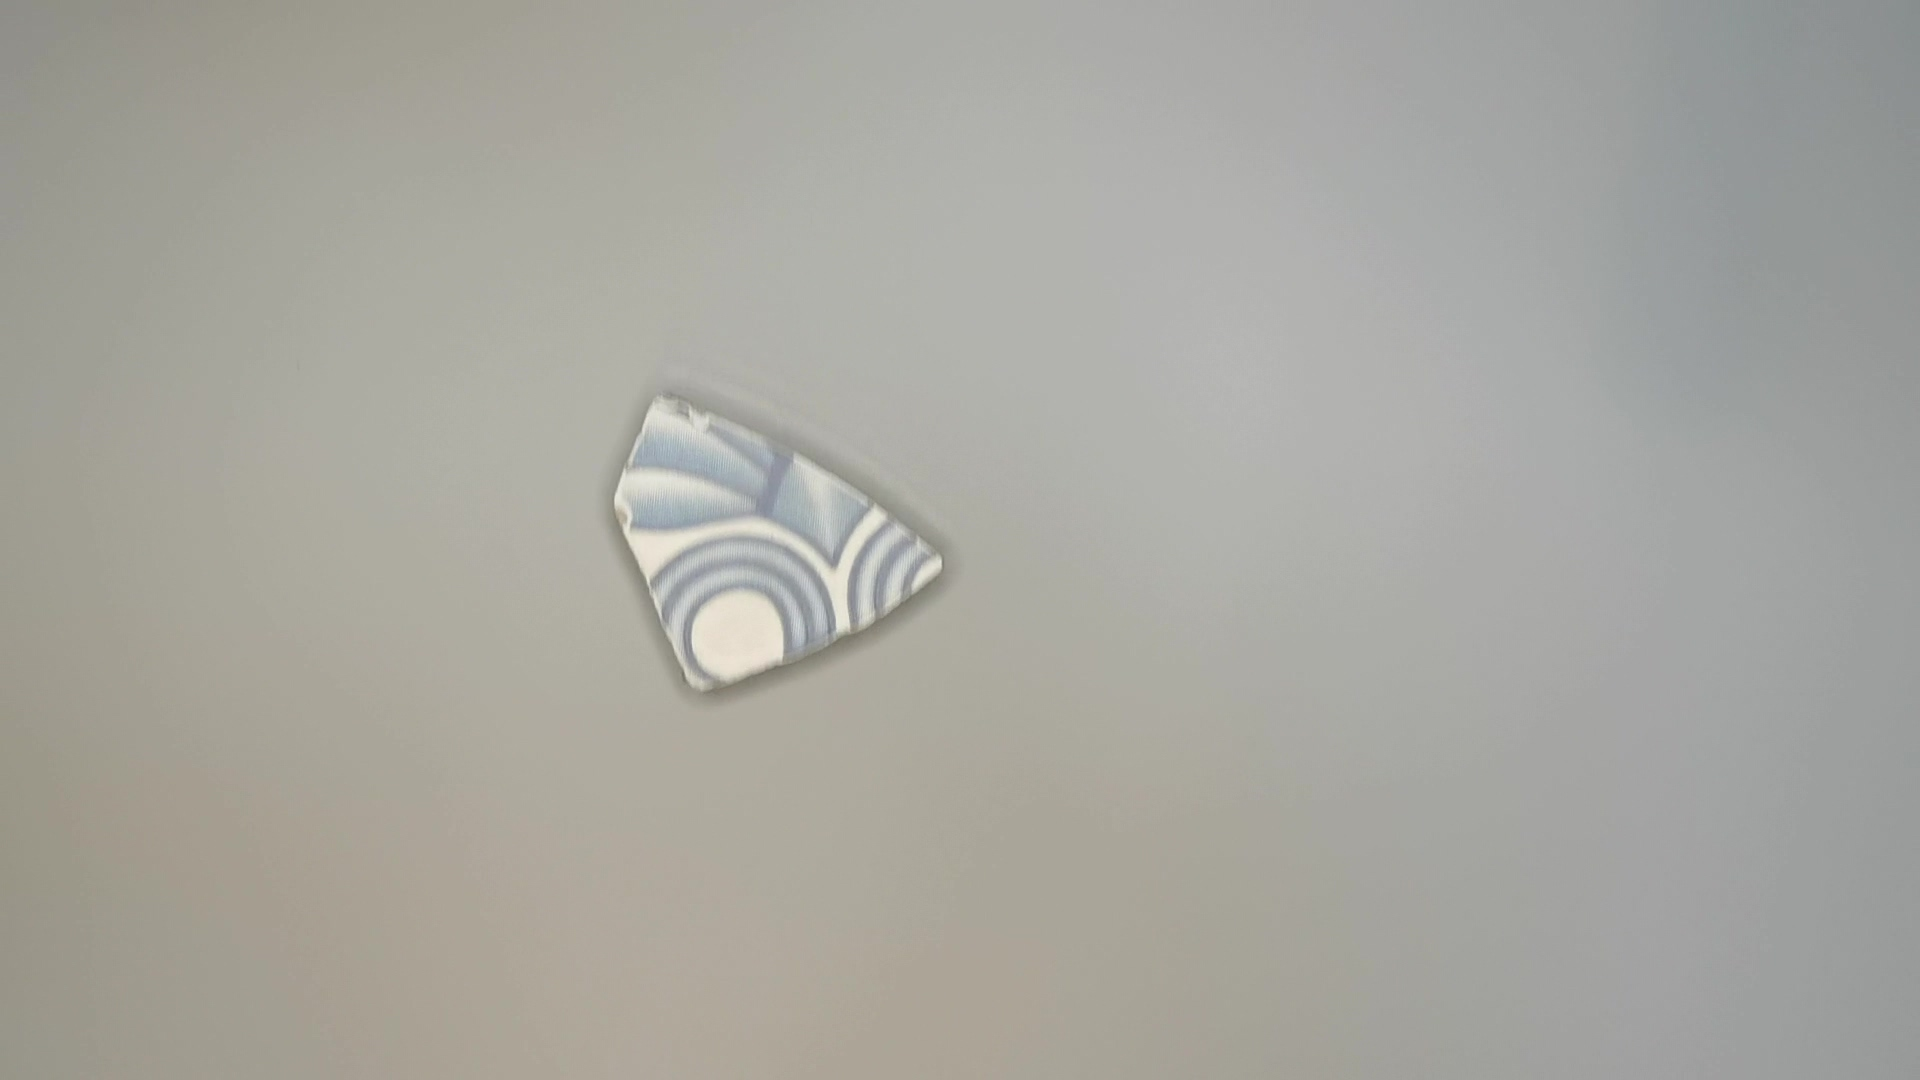ceramic: (600, 386, 955, 711)
